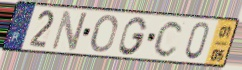0: (184, 21, 211, 62)
2: (27, 9, 56, 50)
C: (152, 19, 186, 59)
G: (117, 16, 149, 57)
N: (48, 9, 90, 52)
O: (89, 14, 119, 54)
